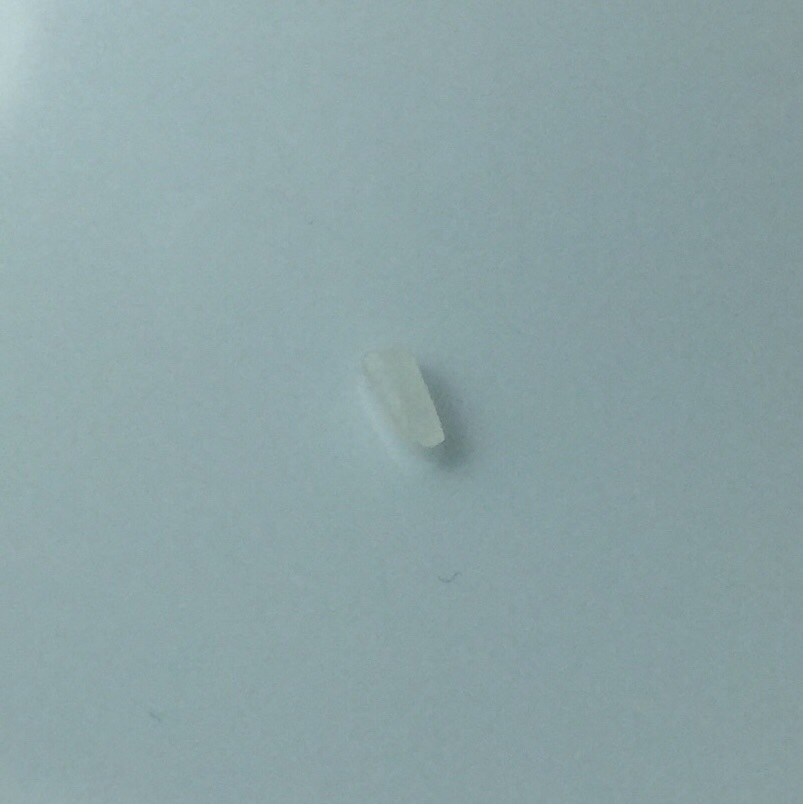Gao Tam: (357, 329, 460, 454)
